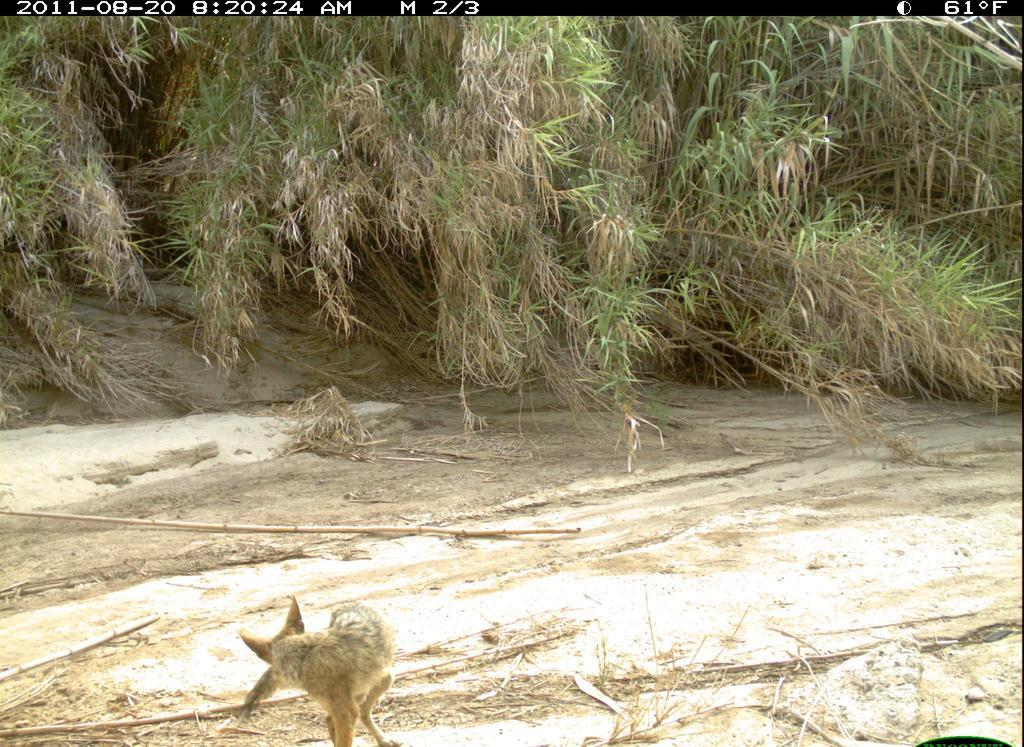coyote: (230, 592, 410, 747)
